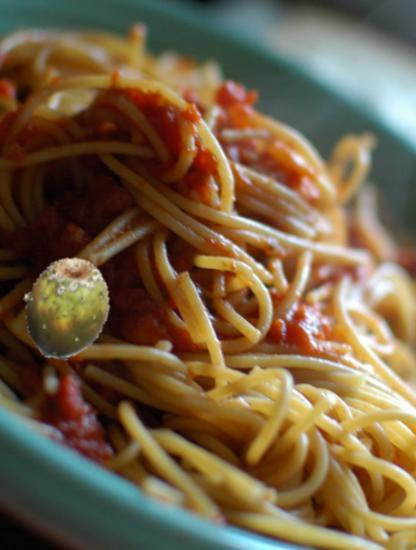Cactus: (11, 255, 118, 362)
